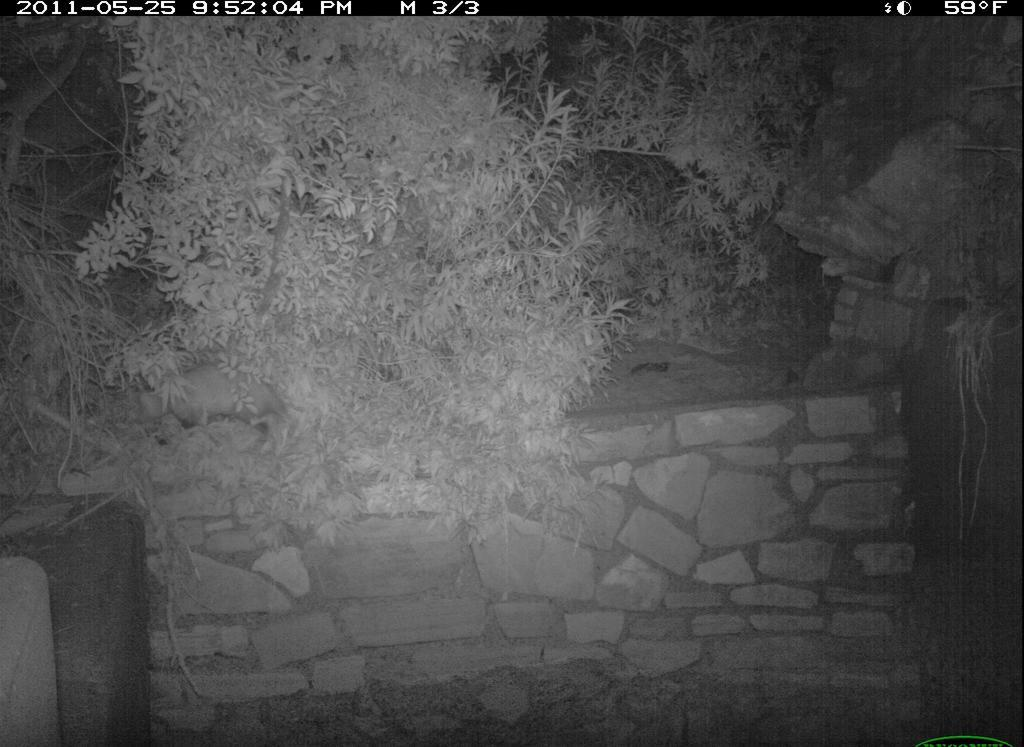opossum: (128, 337, 342, 464)
